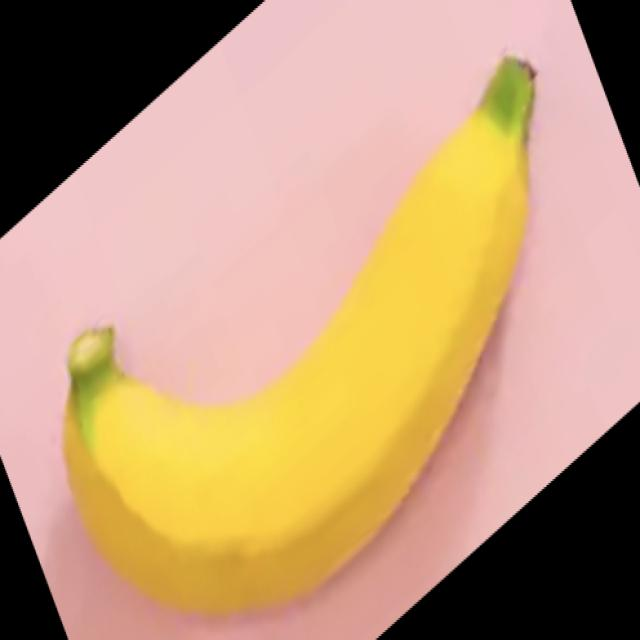god quality banana: (63, 56, 535, 613)
